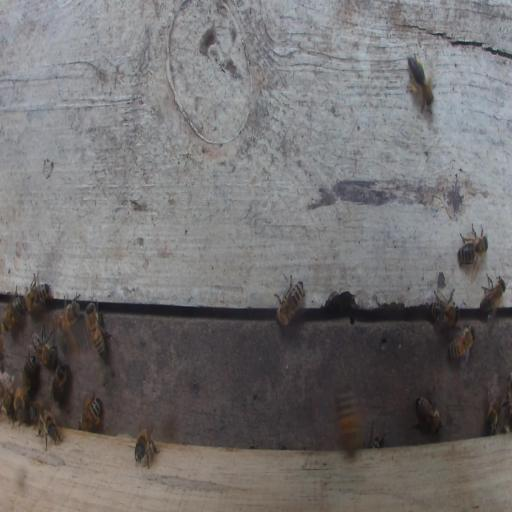nonpollenbee: (274, 274, 305, 326), (84, 300, 111, 357), (479, 272, 506, 321), (448, 324, 475, 365), (414, 395, 442, 434), (31, 326, 57, 368), (25, 273, 51, 314), (134, 424, 158, 468), (2, 290, 26, 333), (455, 236, 489, 266), (57, 294, 81, 334), (428, 301, 460, 327), (51, 361, 69, 402), (366, 421, 386, 449), (41, 408, 57, 441), (0, 377, 13, 417), (13, 385, 27, 416), (22, 355, 35, 386), (487, 402, 499, 434), (29, 402, 38, 424)
pollenbee: (408, 57, 434, 105), (79, 396, 101, 432)
